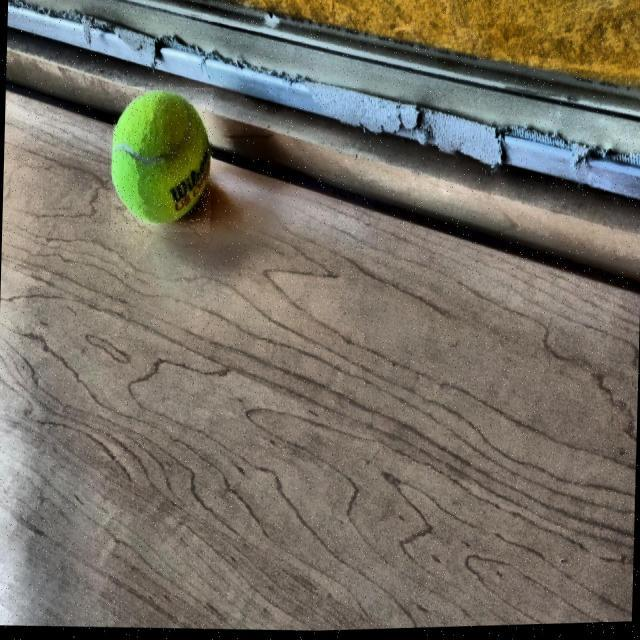tennis-ball: (111, 84, 215, 238)
